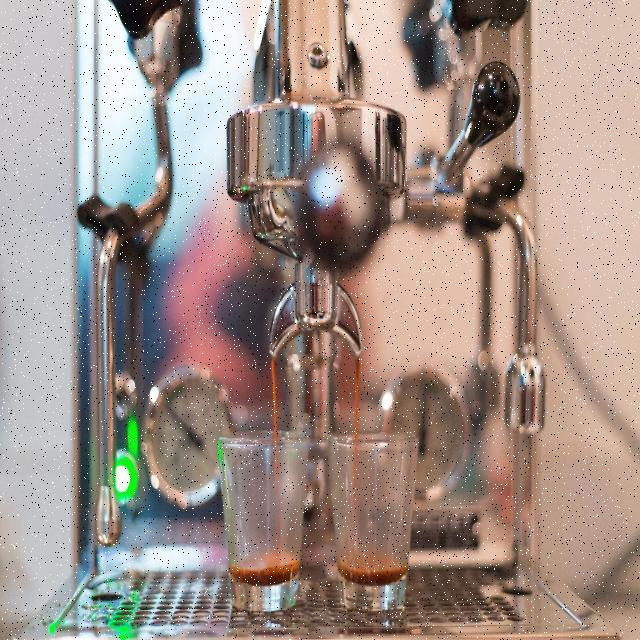Coffee-Machine: (194, 1, 586, 453)
